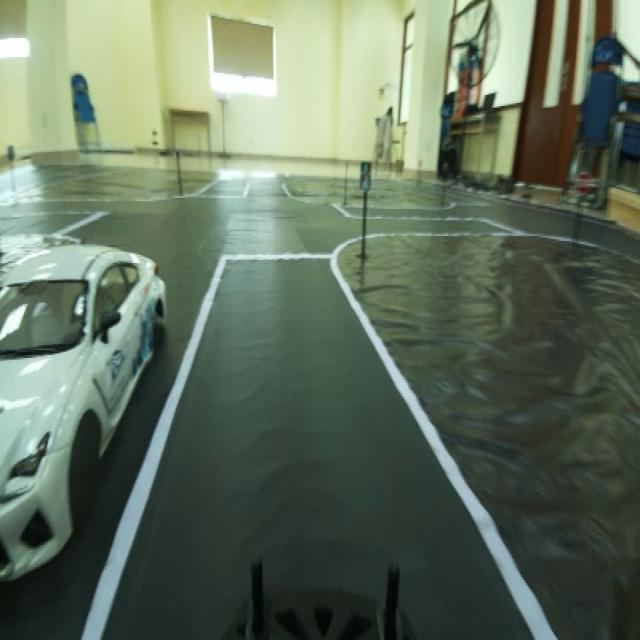car: (3, 146, 167, 584)
highway_exit: (357, 152, 375, 198)
